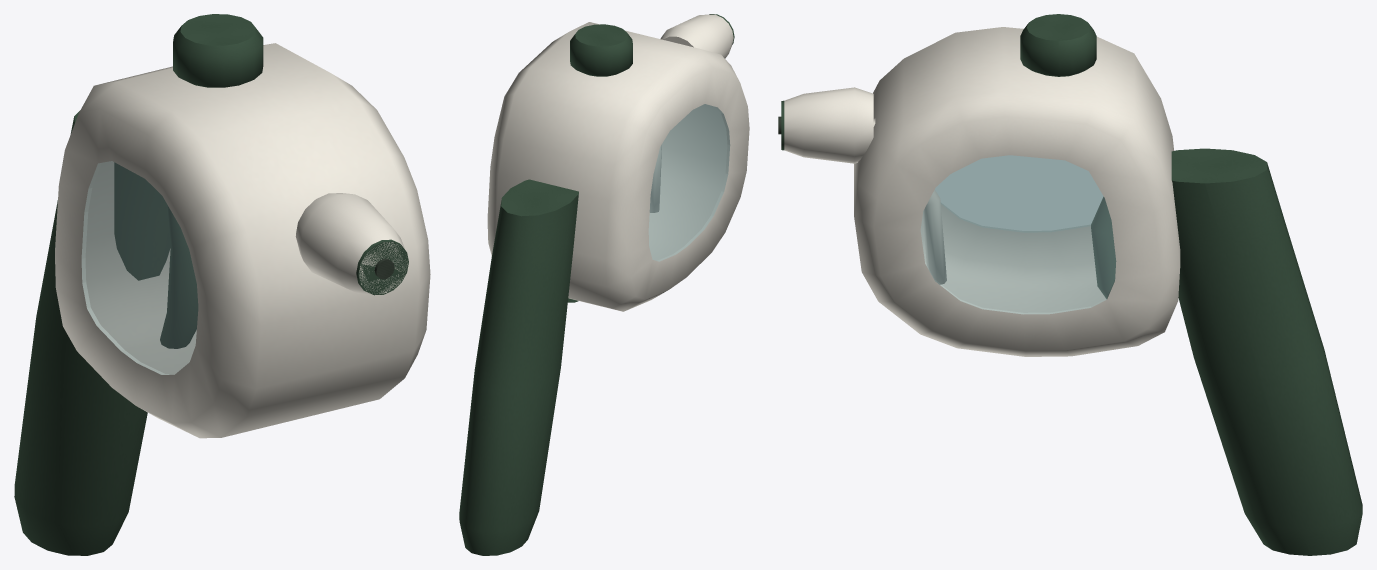
Rendered from WaterPistol.fbx.
3 renders of one model, left to right at view 1: azimuth 30°, elevation 25°; view 2: azimuth 150°, elevation 25°; view 3: azimuth 270°, elevation 25°, orthographic. The views are drawn at different scales.
Parts seen in each view (by area): view 1: WaterPistol_Mesh, WaterPistol_Window; view 2: WaterPistol_Mesh, WaterPistol_Window; view 3: WaterPistol_Mesh, WaterPistol_Window.
Boxes of the visible parts, box(x1,y1,x2,y2) form: WaterPistol_Mesh: box(14, 14, 430, 555); WaterPistol_Window: box(81, 161, 198, 374); WaterPistol_Mesh: box(459, 14, 749, 555); WaterPistol_Window: box(648, 104, 730, 261); WaterPistol_Mesh: box(778, 14, 1362, 555); WaterPistol_Window: box(920, 155, 1116, 314).
Size of the model in its own units: 0.062 by 0.178 by 0.1835.
